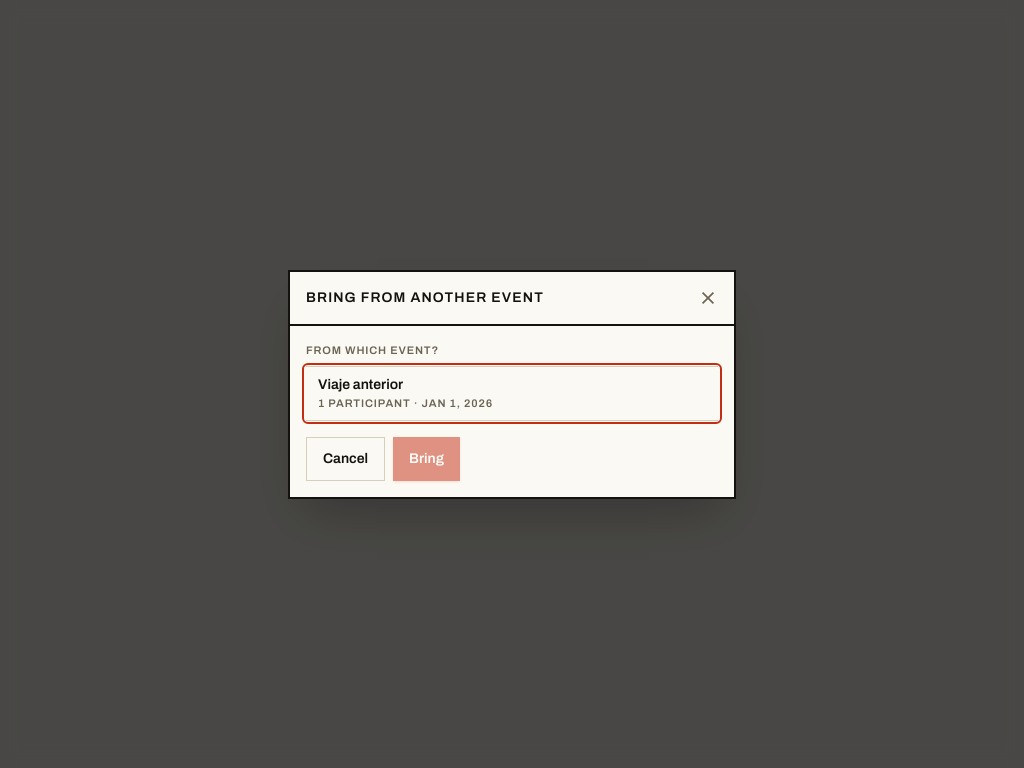
Test case: CloneFromEventModal › enables cloning once a block is ticked
Click the text "Viaje anterior" at (361, 385), box top-left (318, 375), bottom-right (403, 395)
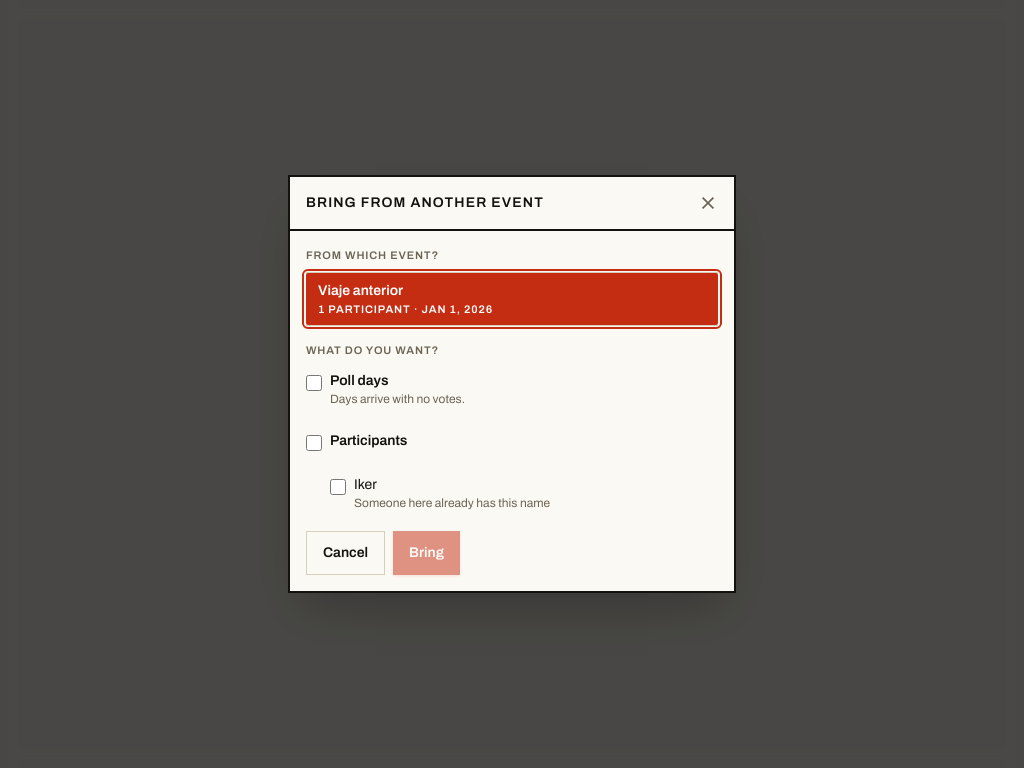
Click the checkbox labelled "Poll days Days arrive with no votes." at (314, 383), box top-left (306, 375), bottom-right (322, 391)
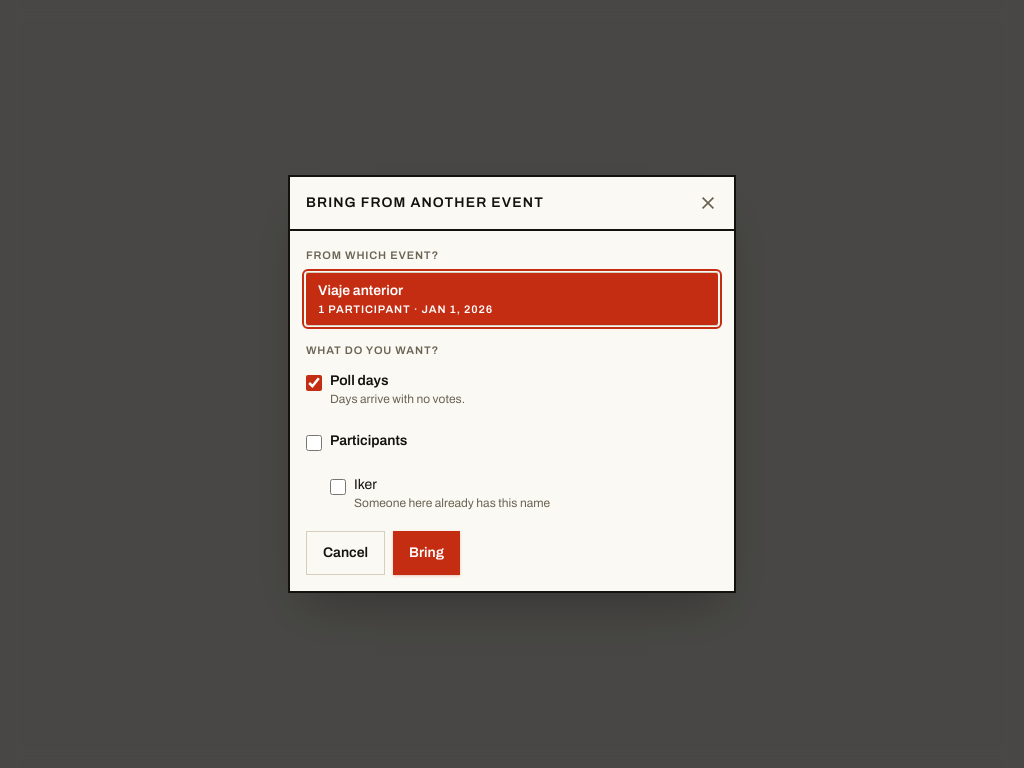
Expected: the button "Bring" is enabled, top-left (393, 531), bottom-right (460, 575)
